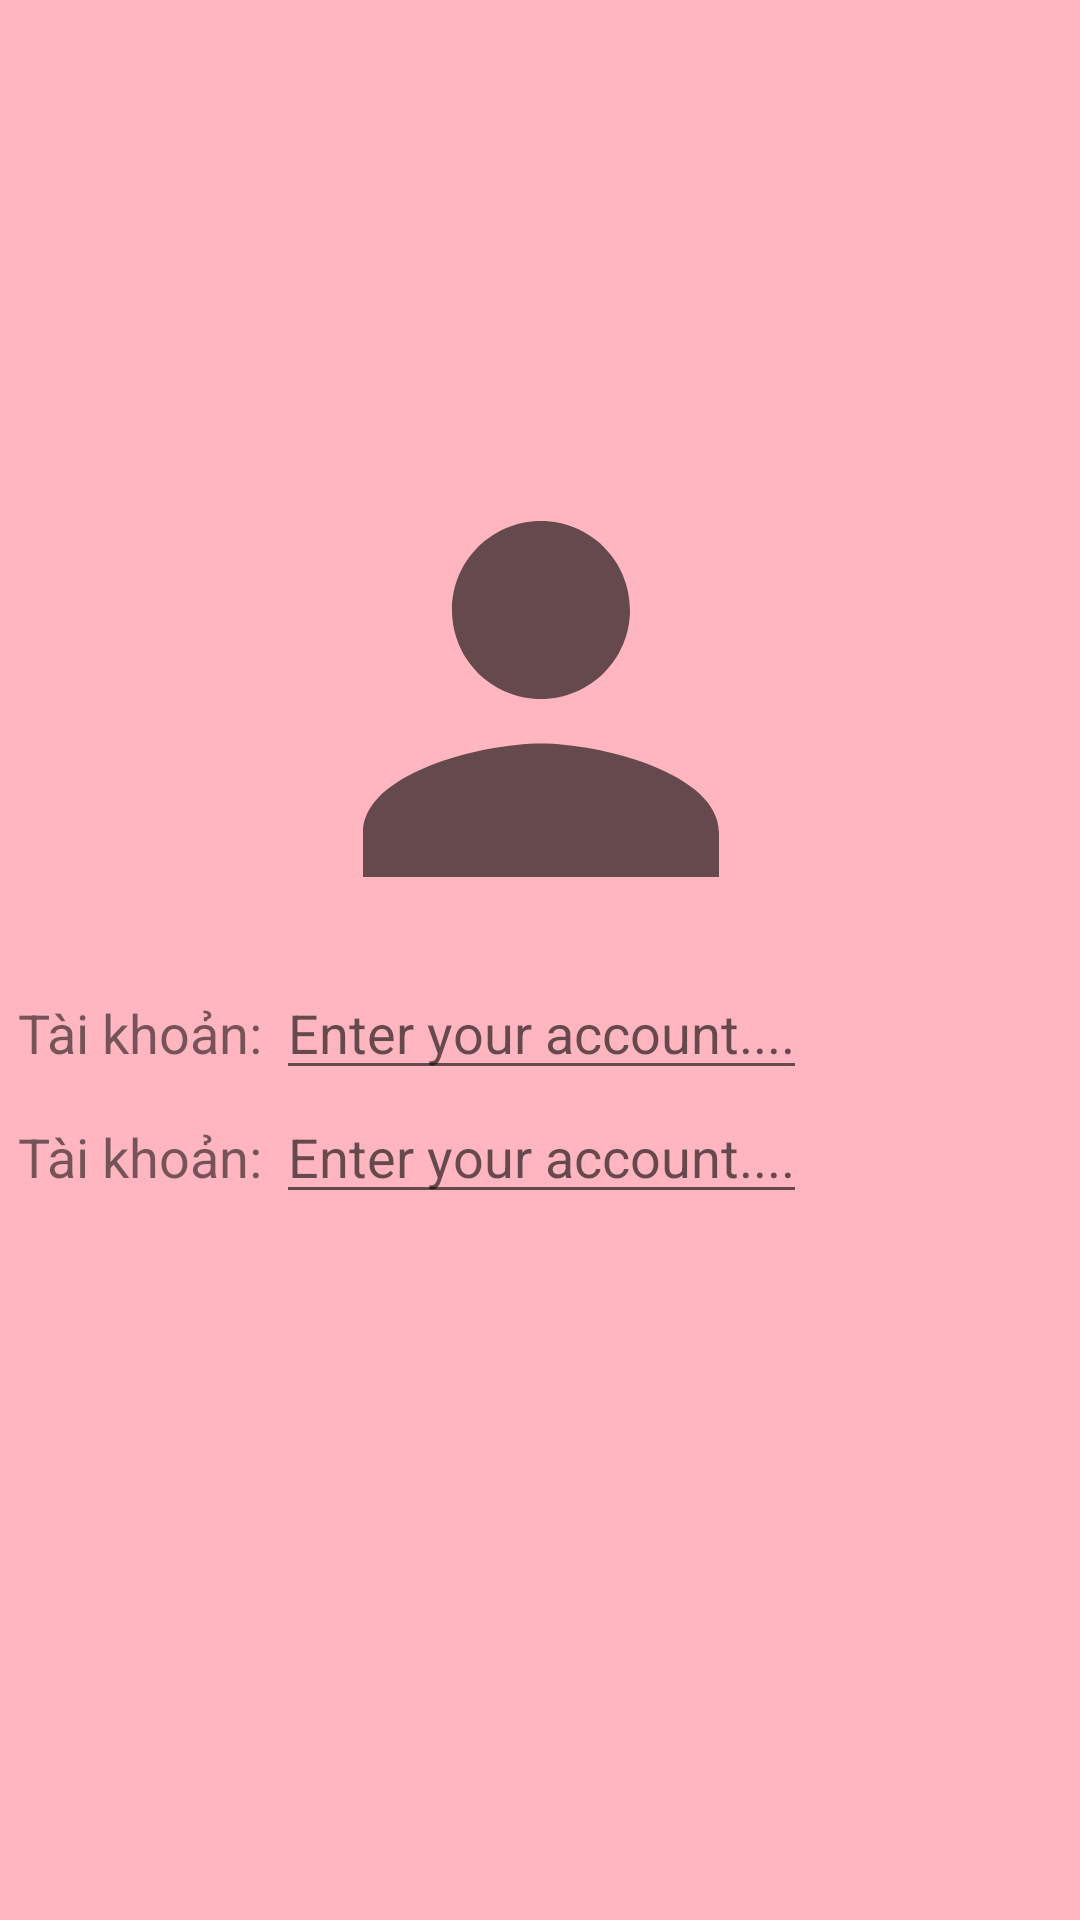

Icons on this 1080px×1920px Android screen, each with the point to tap as point (x, y):
person: point (541, 699)
